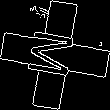M_E: (26, 28, 84, 82)
